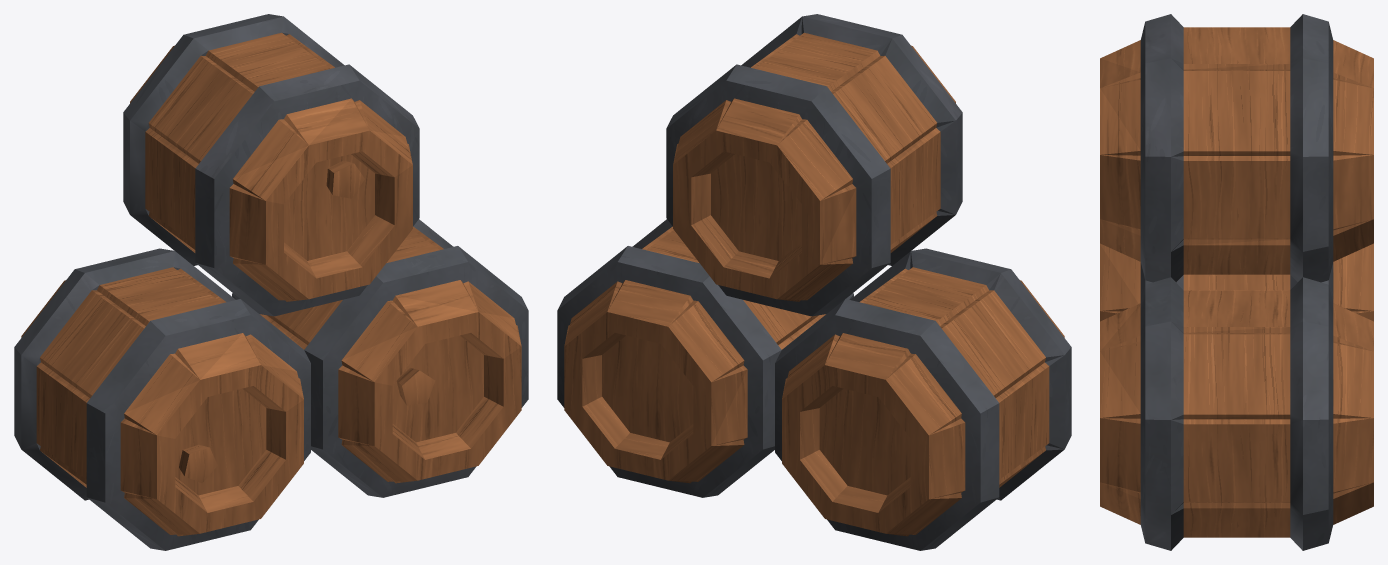
The model's file is barrel_small_stack.gltf.
3 renders of one model, left to right at view 1: azimuth 30°, elevation 25°; view 2: azimuth 150°, elevation 25°; view 3: azimuth 270°, elevation 25°, orthographic.
Visible parts, largest first — view 1: barrel_small_stack; view 2: barrel_small_stack; view 3: barrel_small_stack.
Boxes of the visible parts, box(x1,y1,x2,y2) form: barrel_small_stack: box(14, 14, 528, 550); barrel_small_stack: box(557, 14, 1071, 550); barrel_small_stack: box(1100, 14, 1373, 550).
Bounding box in the file's own units: 1.85 × 1.77 × 1.
5 materials, 5 textured.
